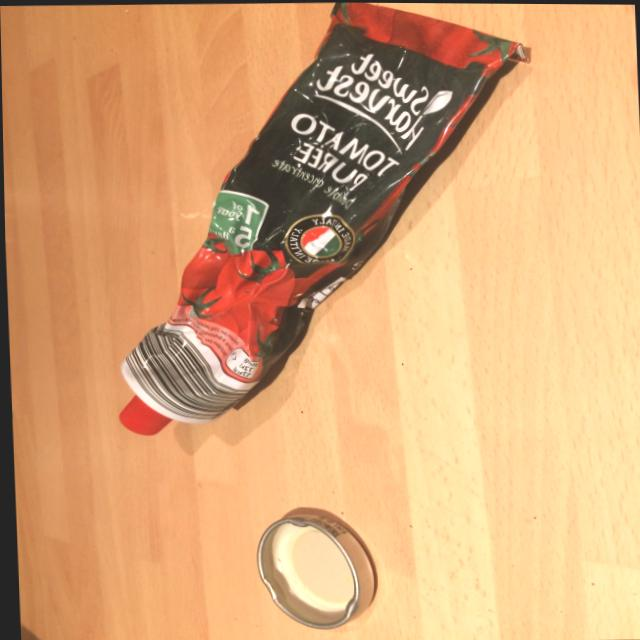Can-Metal: (238, 505, 380, 634)
Plastic: (94, 1, 550, 443)
